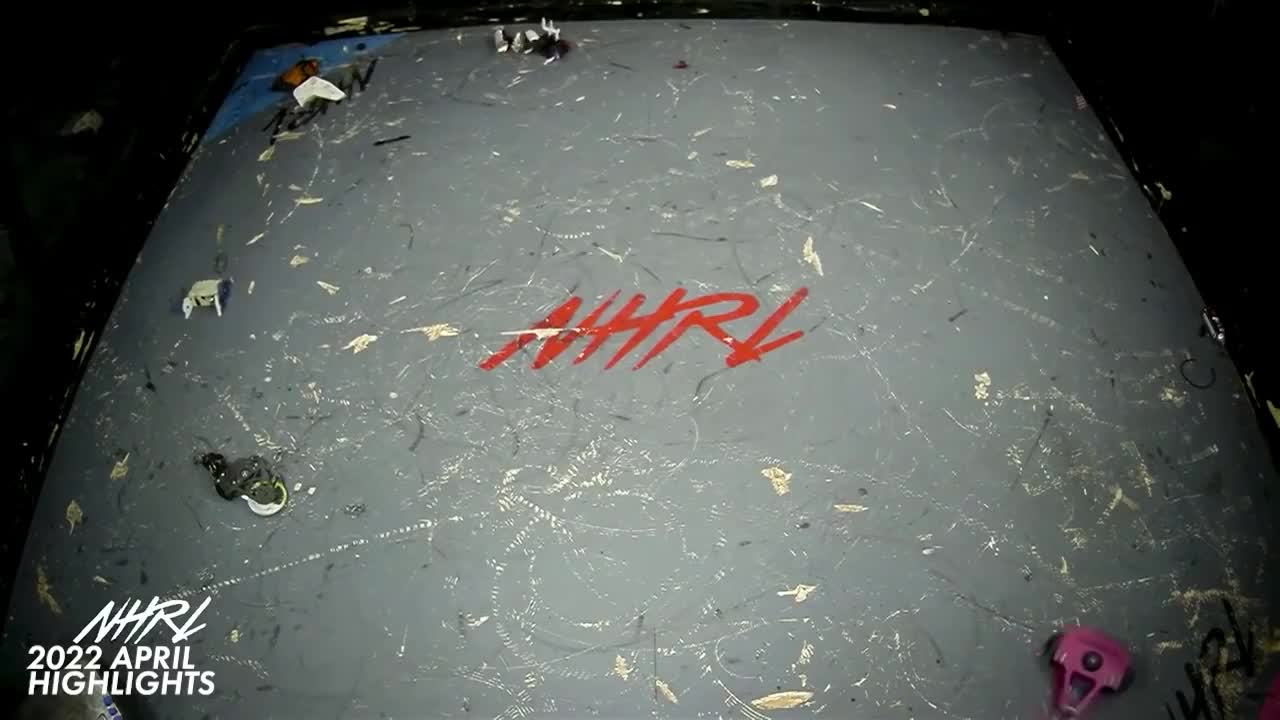combatbot: (1038, 627, 1135, 717), (188, 444, 292, 518), (271, 58, 347, 106), (491, 23, 572, 64), (177, 277, 233, 319)
debris: (370, 131, 415, 148), (672, 57, 692, 73)
